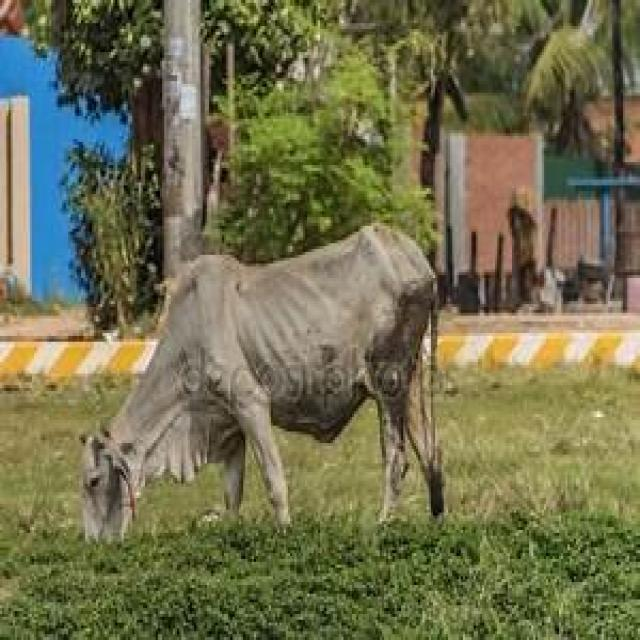cow: (77, 220, 446, 545)
